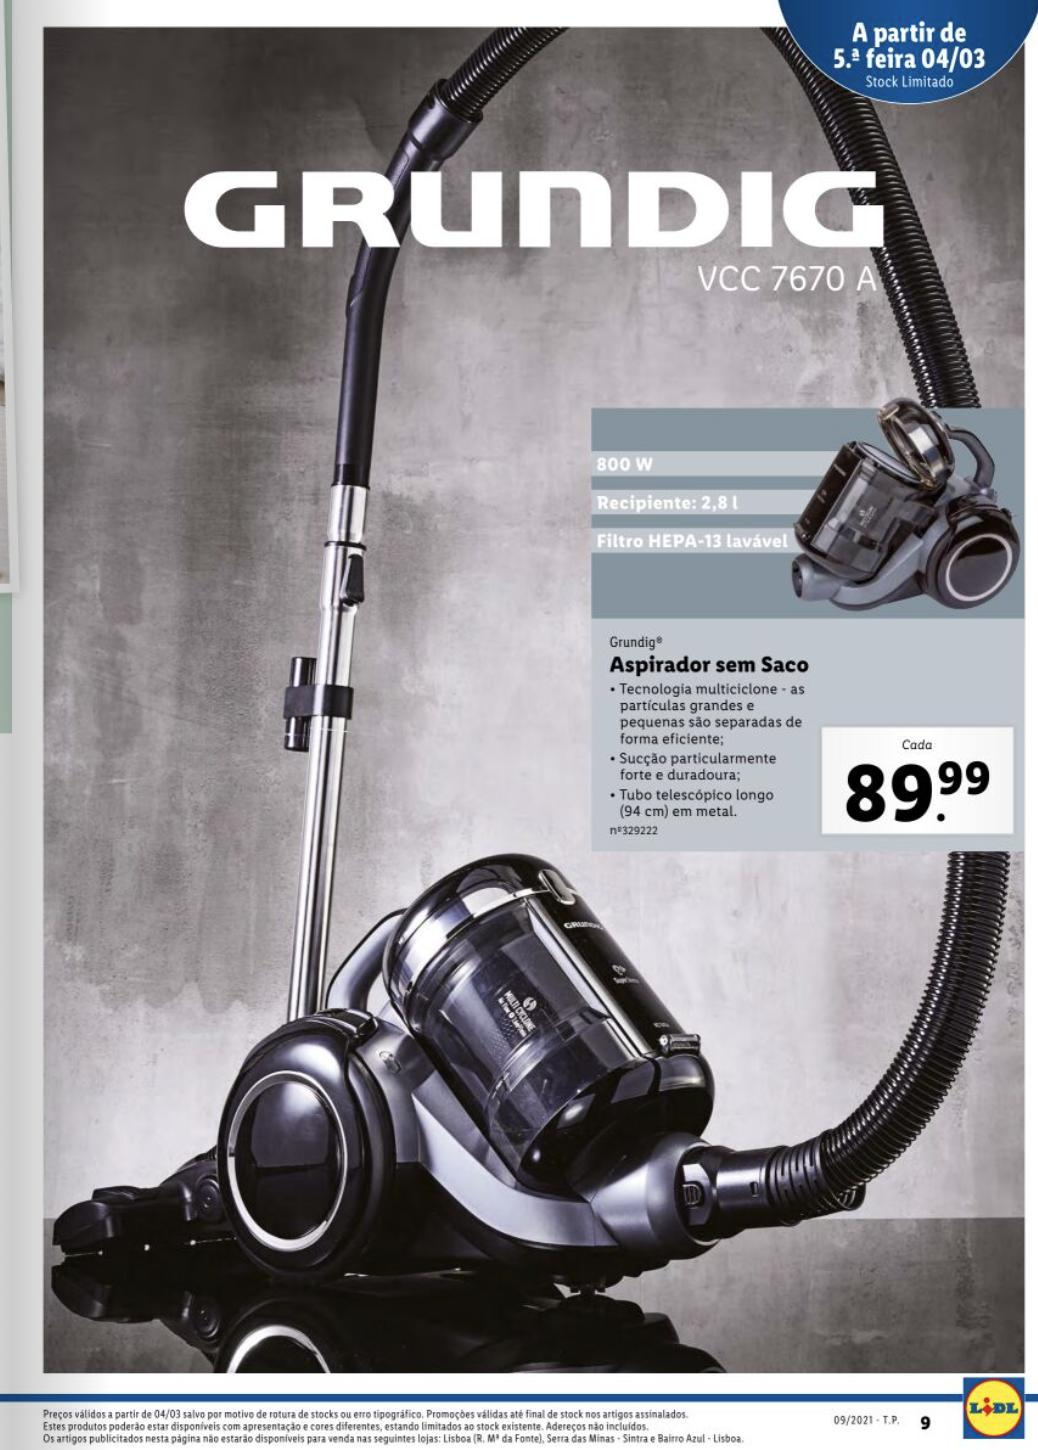name: (605, 647, 821, 684)
price: (846, 759, 992, 827)
product: (80, 376, 1031, 1358)
